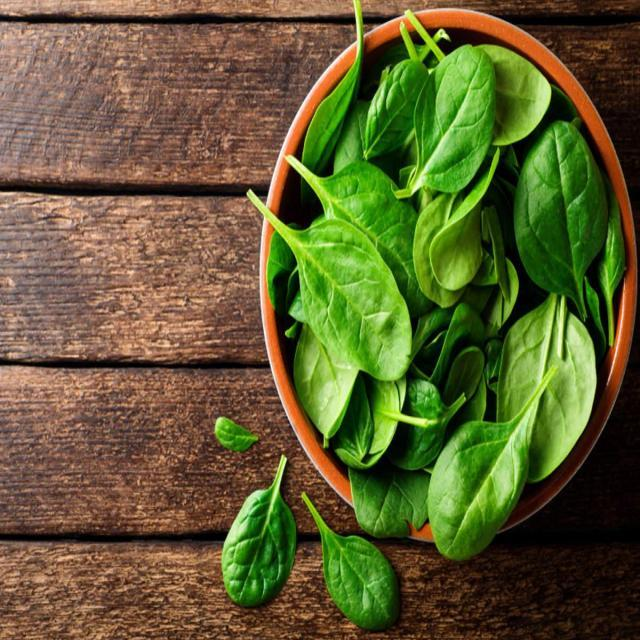Spinach: (267, 23, 630, 556), (214, 457, 397, 640)
